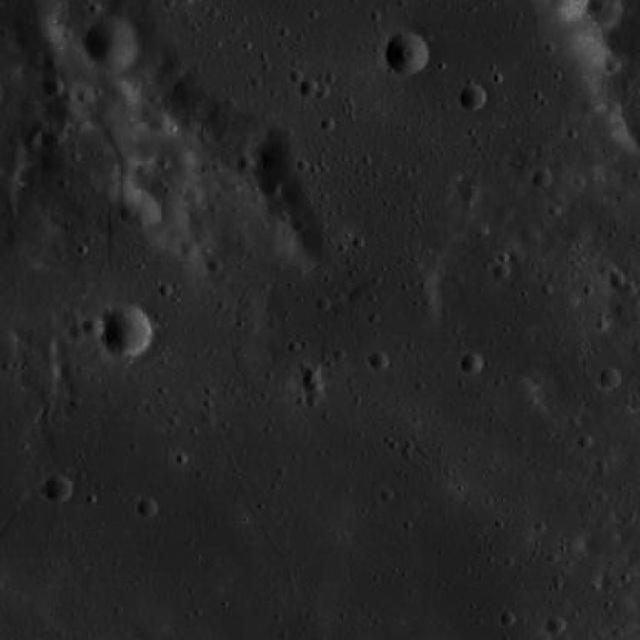crater: (83, 15, 139, 70), (94, 304, 148, 358), (384, 33, 428, 76), (574, 0, 618, 29), (123, 192, 157, 226), (43, 474, 71, 502), (458, 86, 484, 112), (562, 220, 586, 245), (458, 352, 482, 376), (596, 367, 619, 390), (298, 376, 322, 398), (148, 112, 170, 134), (366, 350, 388, 372), (78, 318, 99, 340), (41, 76, 62, 96), (136, 498, 156, 518), (296, 78, 316, 98), (546, 617, 566, 637), (298, 362, 318, 382), (42, 126, 62, 146), (258, 180, 277, 200), (65, 320, 84, 340), (530, 170, 550, 188), (454, 180, 472, 200), (234, 157, 252, 174), (22, 133, 40, 150), (76, 87, 93, 104), (603, 56, 620, 73), (176, 237, 193, 254), (492, 264, 508, 282), (608, 270, 624, 288), (587, 0, 607, 14), (582, 98, 598, 114), (206, 258, 220, 274)
